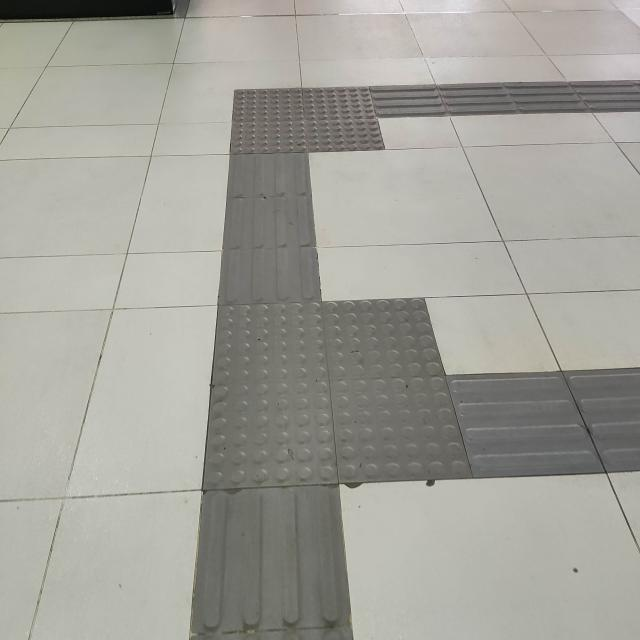kanan: (181, 48, 497, 192)
